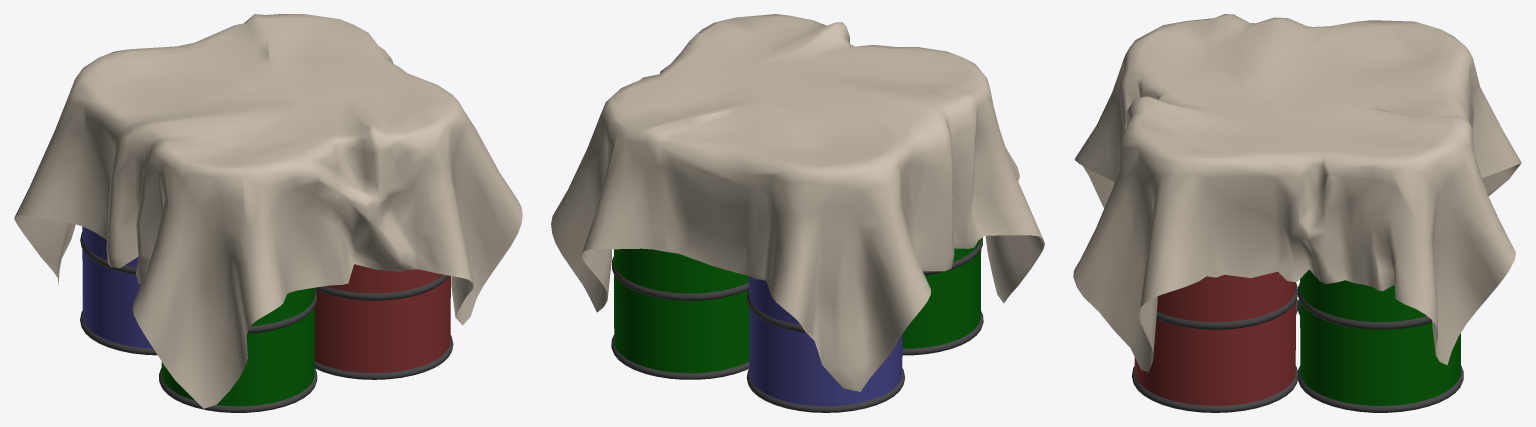
File: coklu_barrel.fbx
The picture shows the model from 3 angles, left to right: view 1: azimuth 30°, elevation 25°; view 2: azimuth 150°, elevation 25°; view 3: azimuth 270°, elevation 25°; orthographic projection. The views are drawn at different scales.
Parts seen in each view (by area): view 1: polySurface71; view 2: polySurface71; view 3: polySurface71.
Boxes of the visible parts, left/top/right/bottom form: polySurface71: left=14, top=14, right=522, bottom=412; polySurface71: left=551, top=14, right=1044, bottom=412; polySurface71: left=1073, top=14, right=1521, bottom=412.
Bounding box in the file's own units: 152 × 97.47 × 150.
